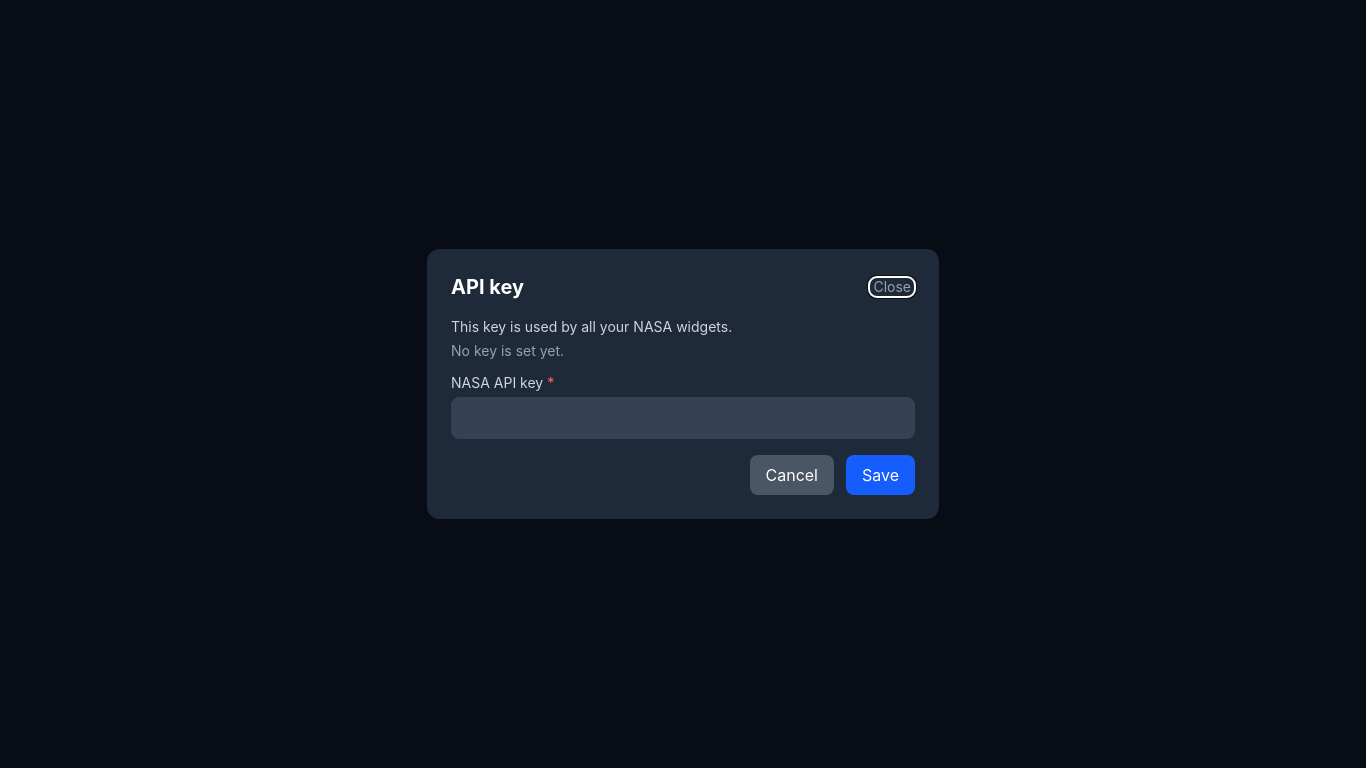
Test: a server rejection is shown in the form and the dialog stays open
The width and height of the screenshot is (1366, 768).
Type "my-key" into the password field labelled "NASA API key *" at x=683, y=418, box x1=451 y1=397 x2=915 y2=439
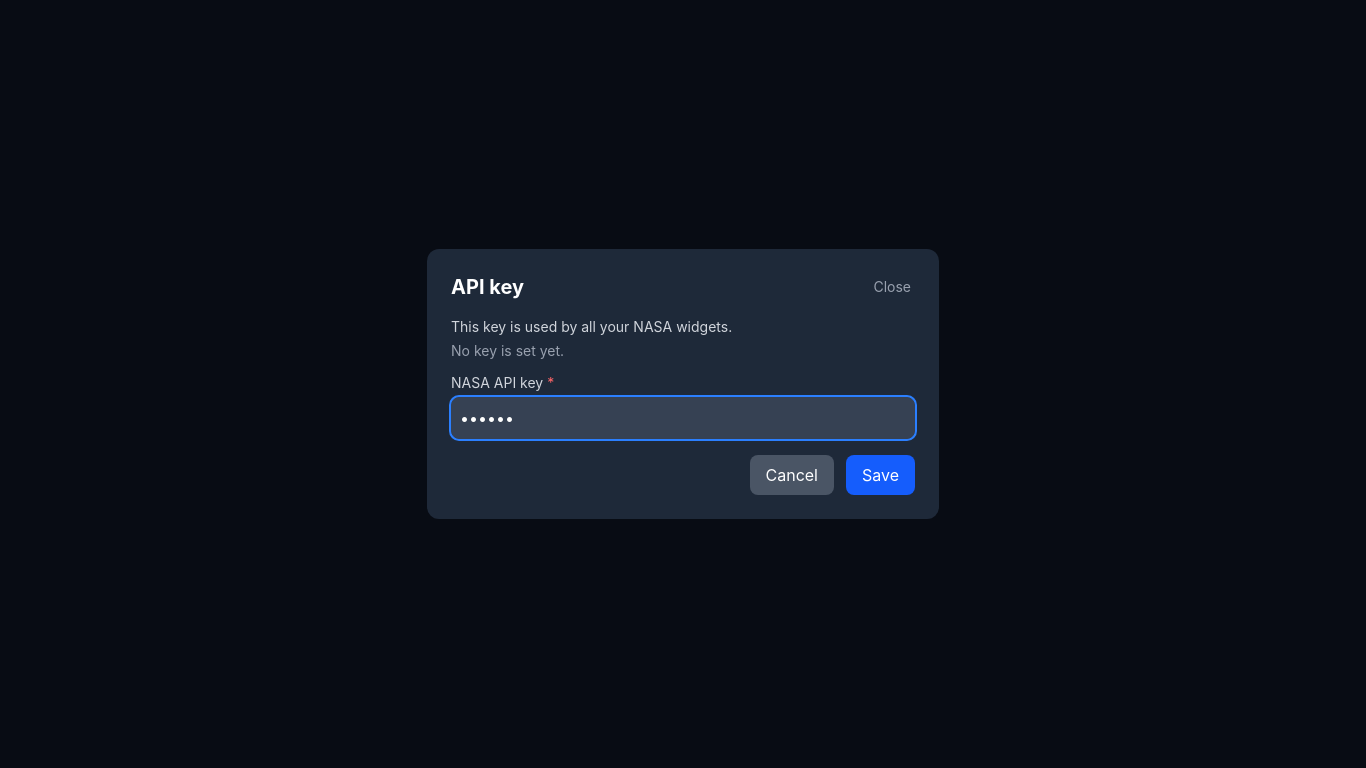
Click the button "Save" at x=880, y=475, box x1=846 y1=455 x2=915 y2=495
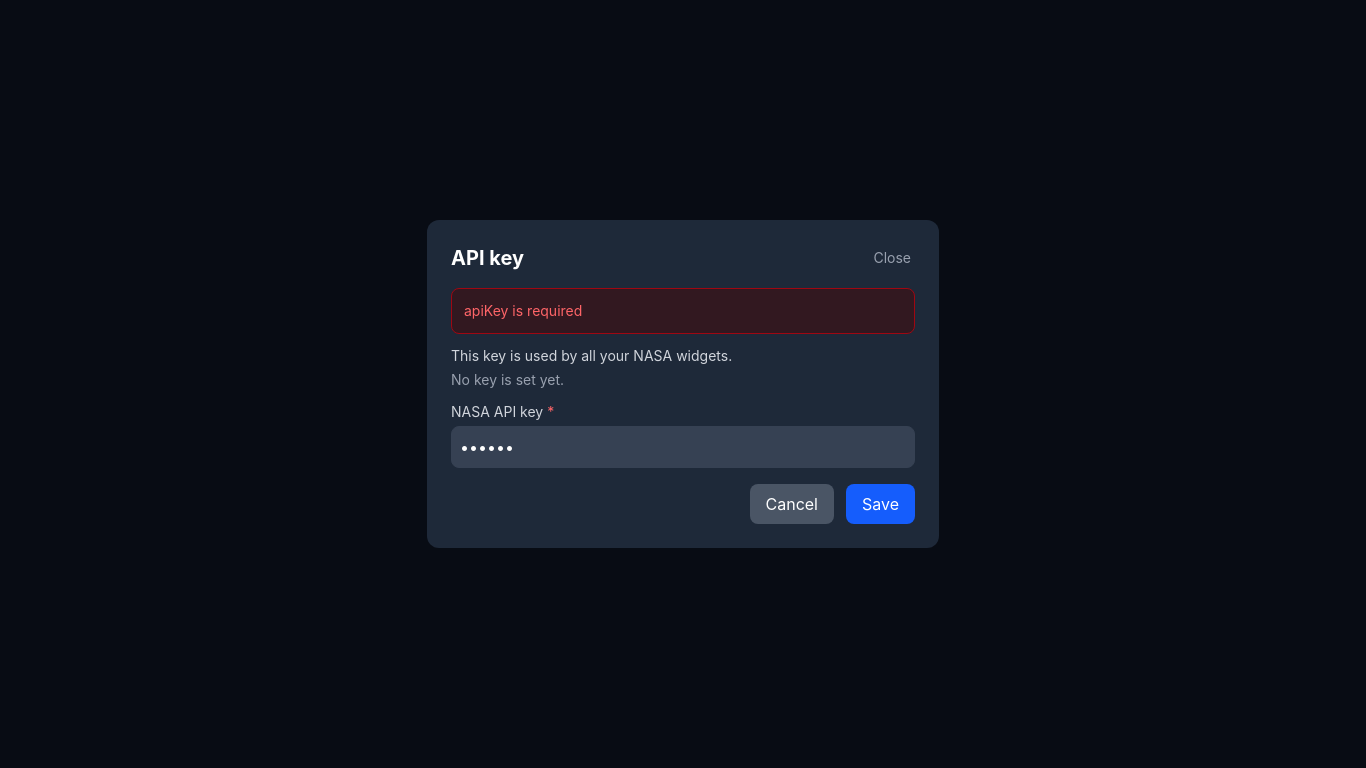
Result: the message reads "apiKey is required" at x1=464 y1=302 x2=582 y2=319
